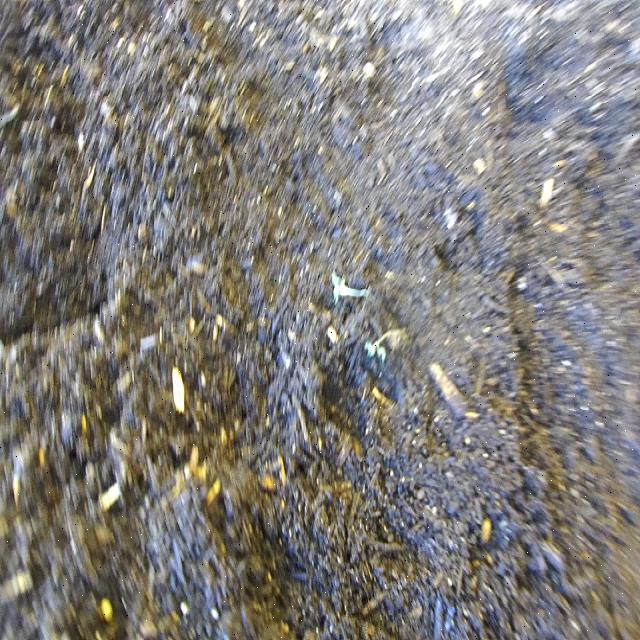Unhealthy: (325, 252, 416, 379)
